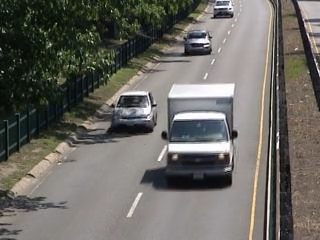car: (108, 91, 161, 129), (182, 29, 216, 59), (212, 1, 236, 19)
truck: (163, 80, 241, 189)
